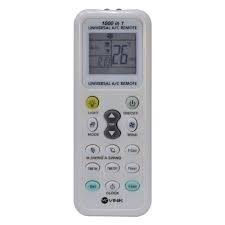remote control: (74, 9, 151, 214)
